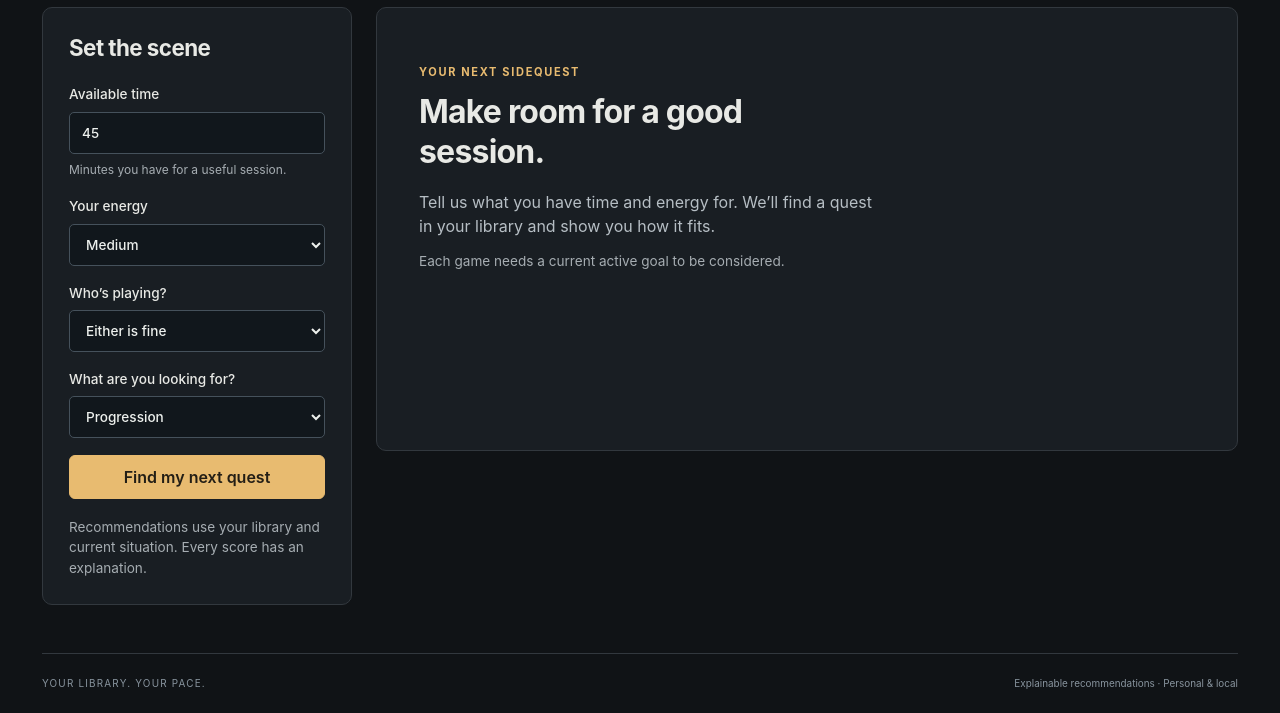
Test: Tonight › renders a clear recommendation and factor explanations
(page scrolled)
Click the button "Find my next quest".
click(197, 477)  # box [69,455,325,499]
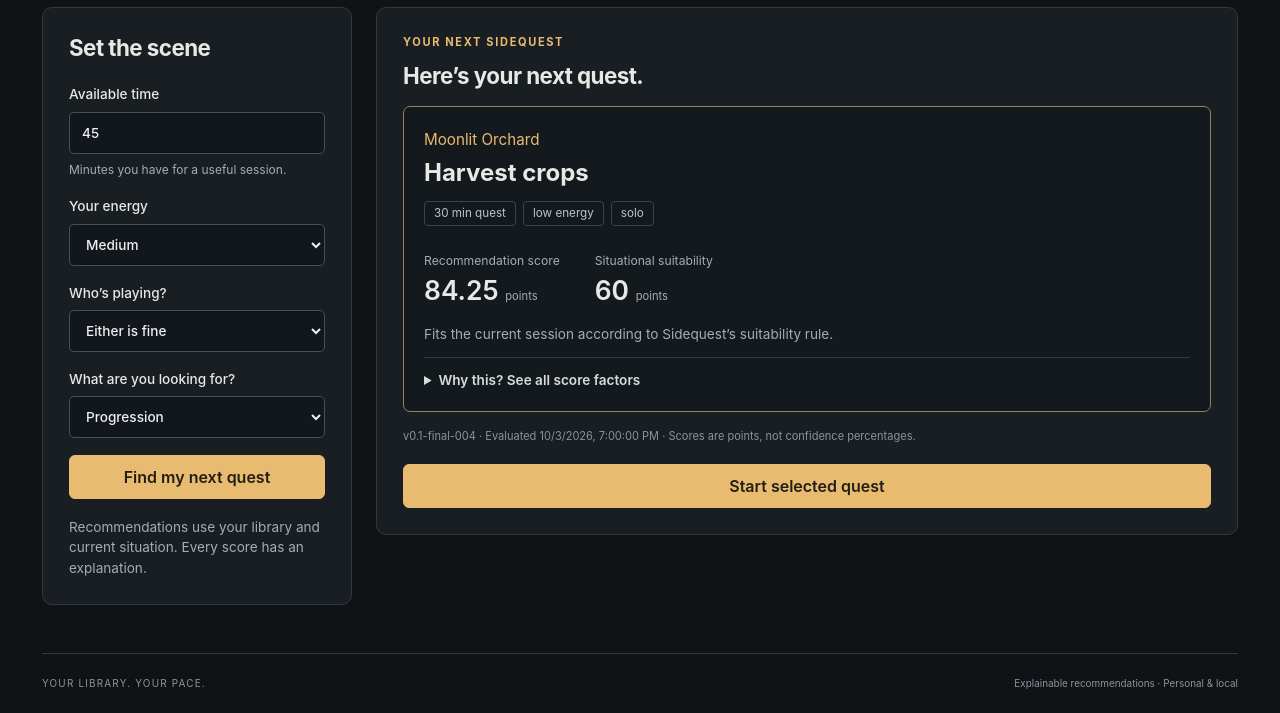
Now the heading "Here’s your next quest." is shown, box [403,62,643,89]
Now the heading "Harvest crops" is shown, box [424,158,589,187]
Now the text "84.25" is shown, box [424,274,499,306]
Click the heading "Why this? See all score factors".
click(539, 380)  # box [438,372,640,388]
(page scrolled)
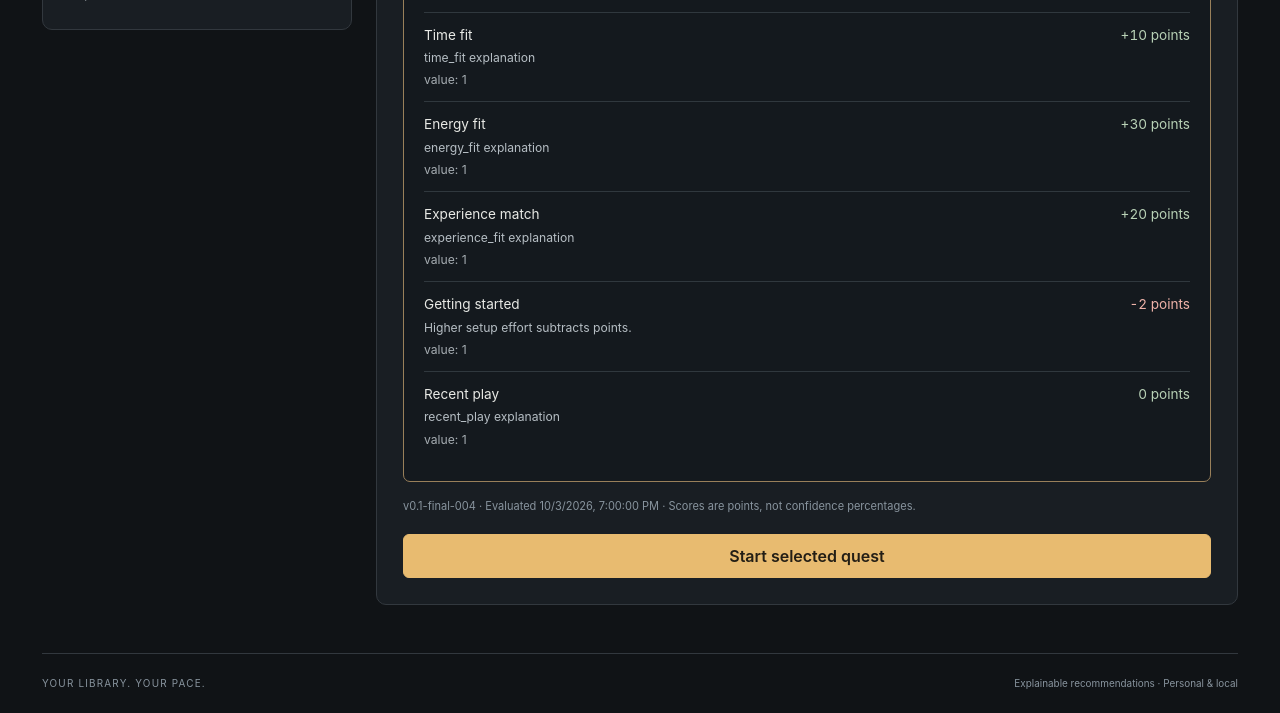
Now the text "Higher setup effort subtracts points." is shown, box [424,320,632,334]
Now the text "-2 points" is shown, box [1129,294,1190,314]
Now the text "+30 points" is shown, box [1121,114,1190,135]
